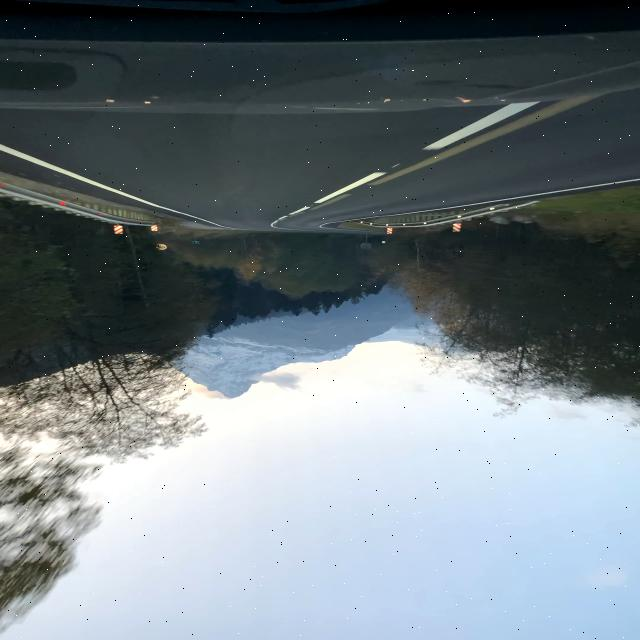lane: (1, 146, 229, 228), (427, 102, 536, 149), (317, 173, 384, 203)
road: (1, 3, 639, 231)
